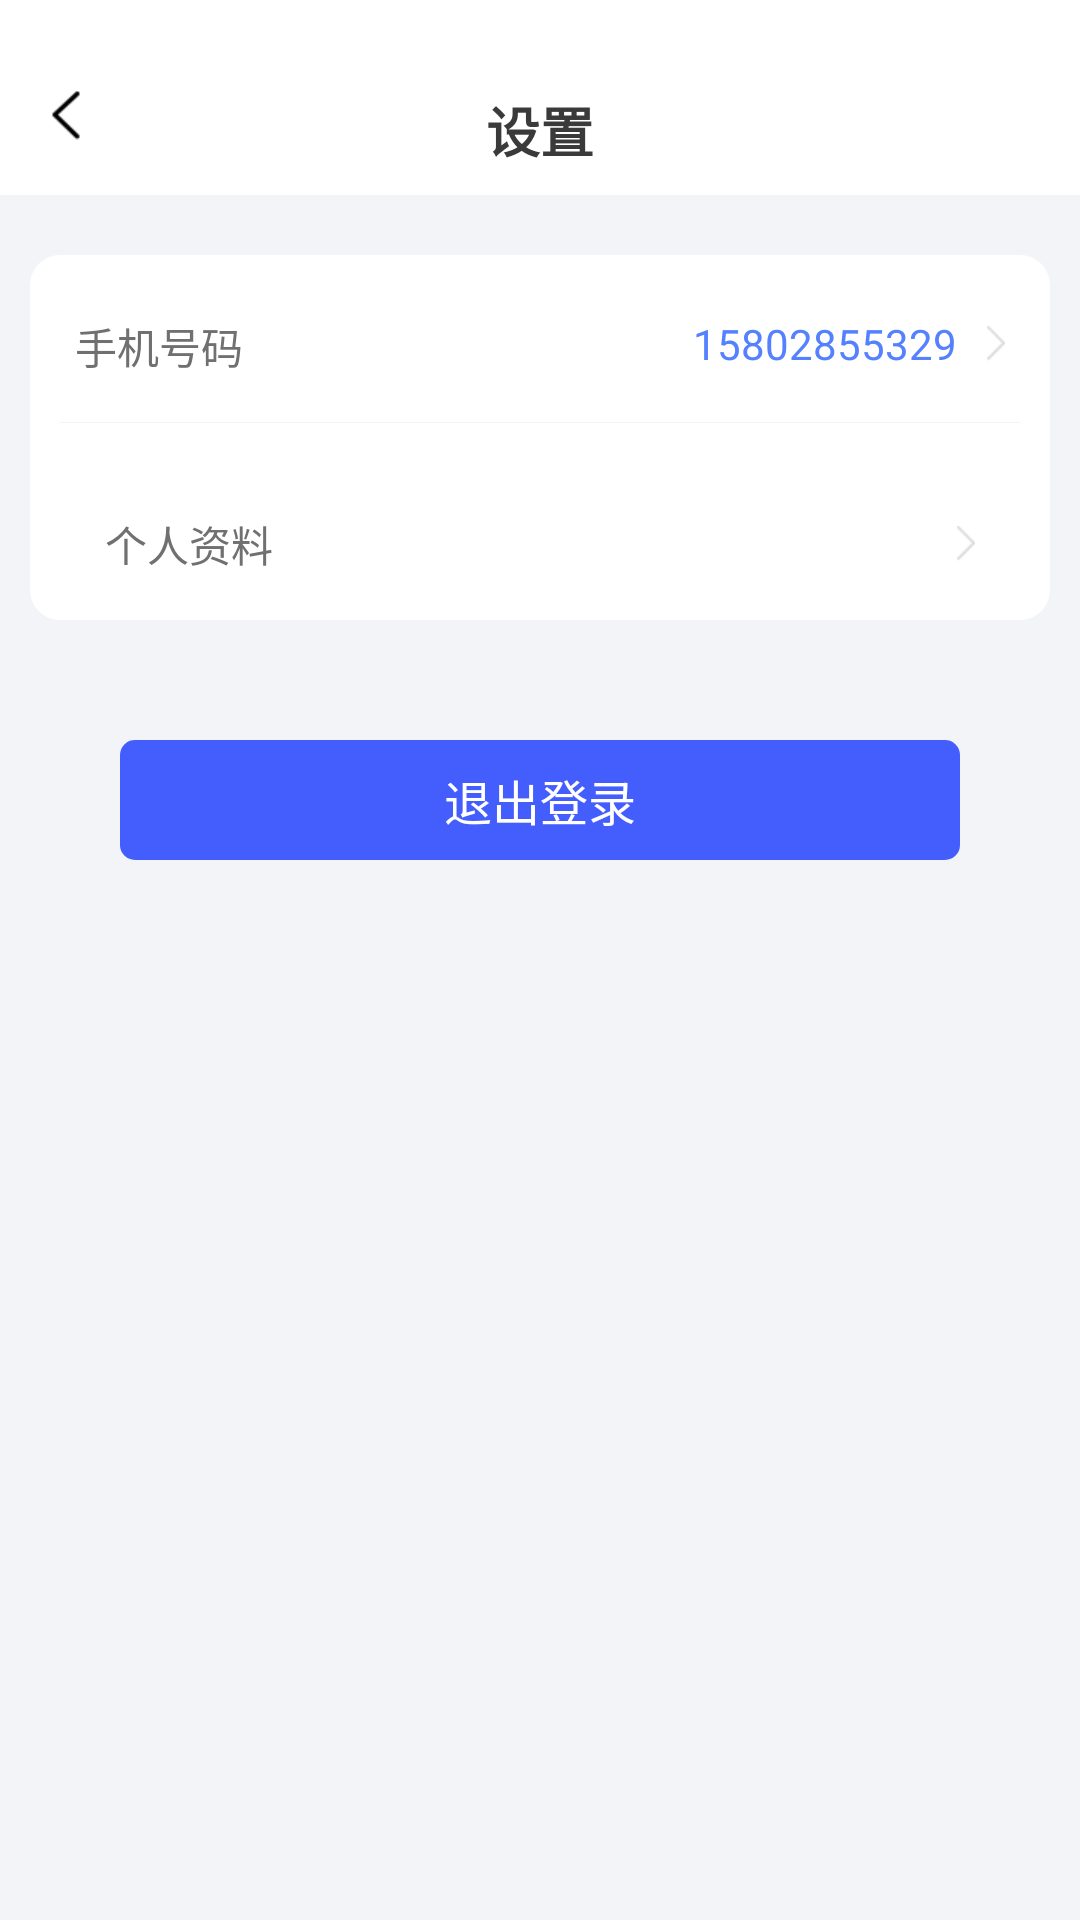

Where to tap for icons on this 1080px x 1920px app screen, as (x,y):
left: (66,115)
